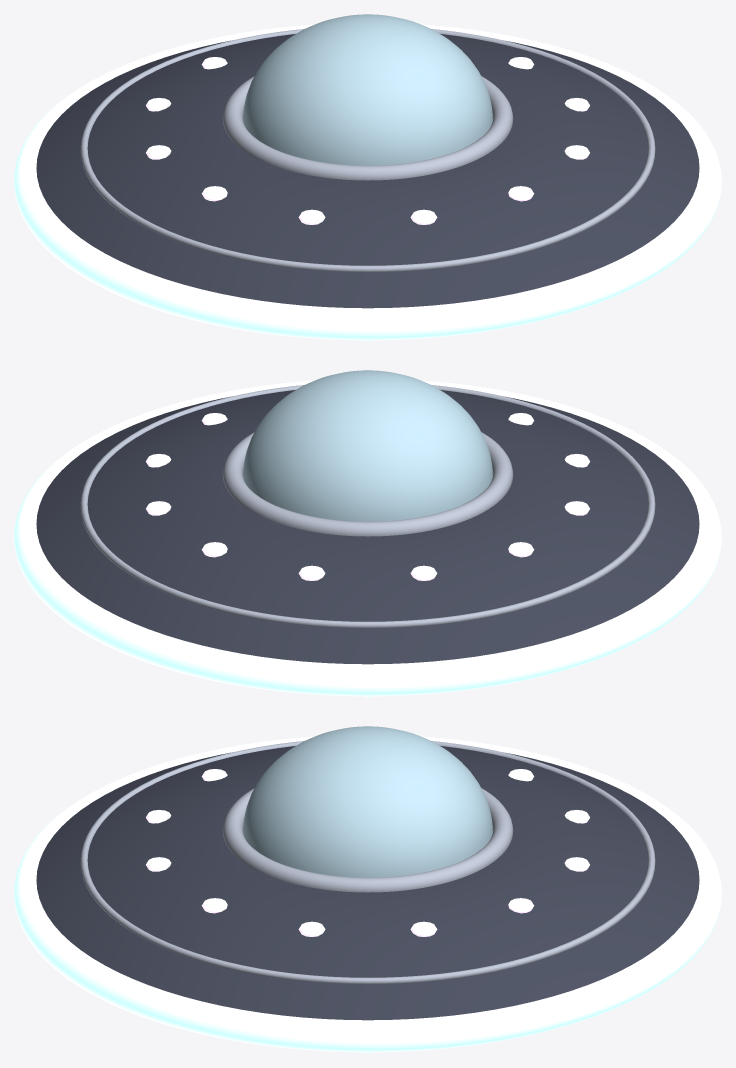
The model's file is ufo.glb.
The picture shows the model from 3 angles, top to bottom: view 1: azimuth 30°, elevation 25°; view 2: azimuth 150°, elevation 25°; view 3: azimuth 270°, elevation 25°; orthographic projection.
Visible parts, largest first — view 1: Deck, Rim, Dome, DeckLine, Collar; view 2: Deck, Rim, Dome, DeckLine, Collar; view 3: Deck, Rim, Dome, DeckLine, Collar.
Boxes of the visible parts, <box> form: Deck: <box>36,34,699,308</box>; Rim: <box>14,24,721,340</box>; Dome: <box>243,14,492,165</box>; DeckLine: <box>80,29,655,271</box>; Collar: <box>222,76,513,180</box>; Deck: <box>36,390,699,664</box>; Rim: <box>14,380,721,696</box>; Dome: <box>243,370,492,521</box>; DeckLine: <box>80,385,655,627</box>; Collar: <box>222,432,513,536</box>; Deck: <box>36,746,699,1020</box>; Rim: <box>14,736,721,1052</box>; Dome: <box>243,726,492,877</box>; DeckLine: <box>80,741,655,983</box>; Collar: <box>222,788,513,892</box>.
Bounding box in the file's own units: 2.1 × 0.756 × 2.1.
